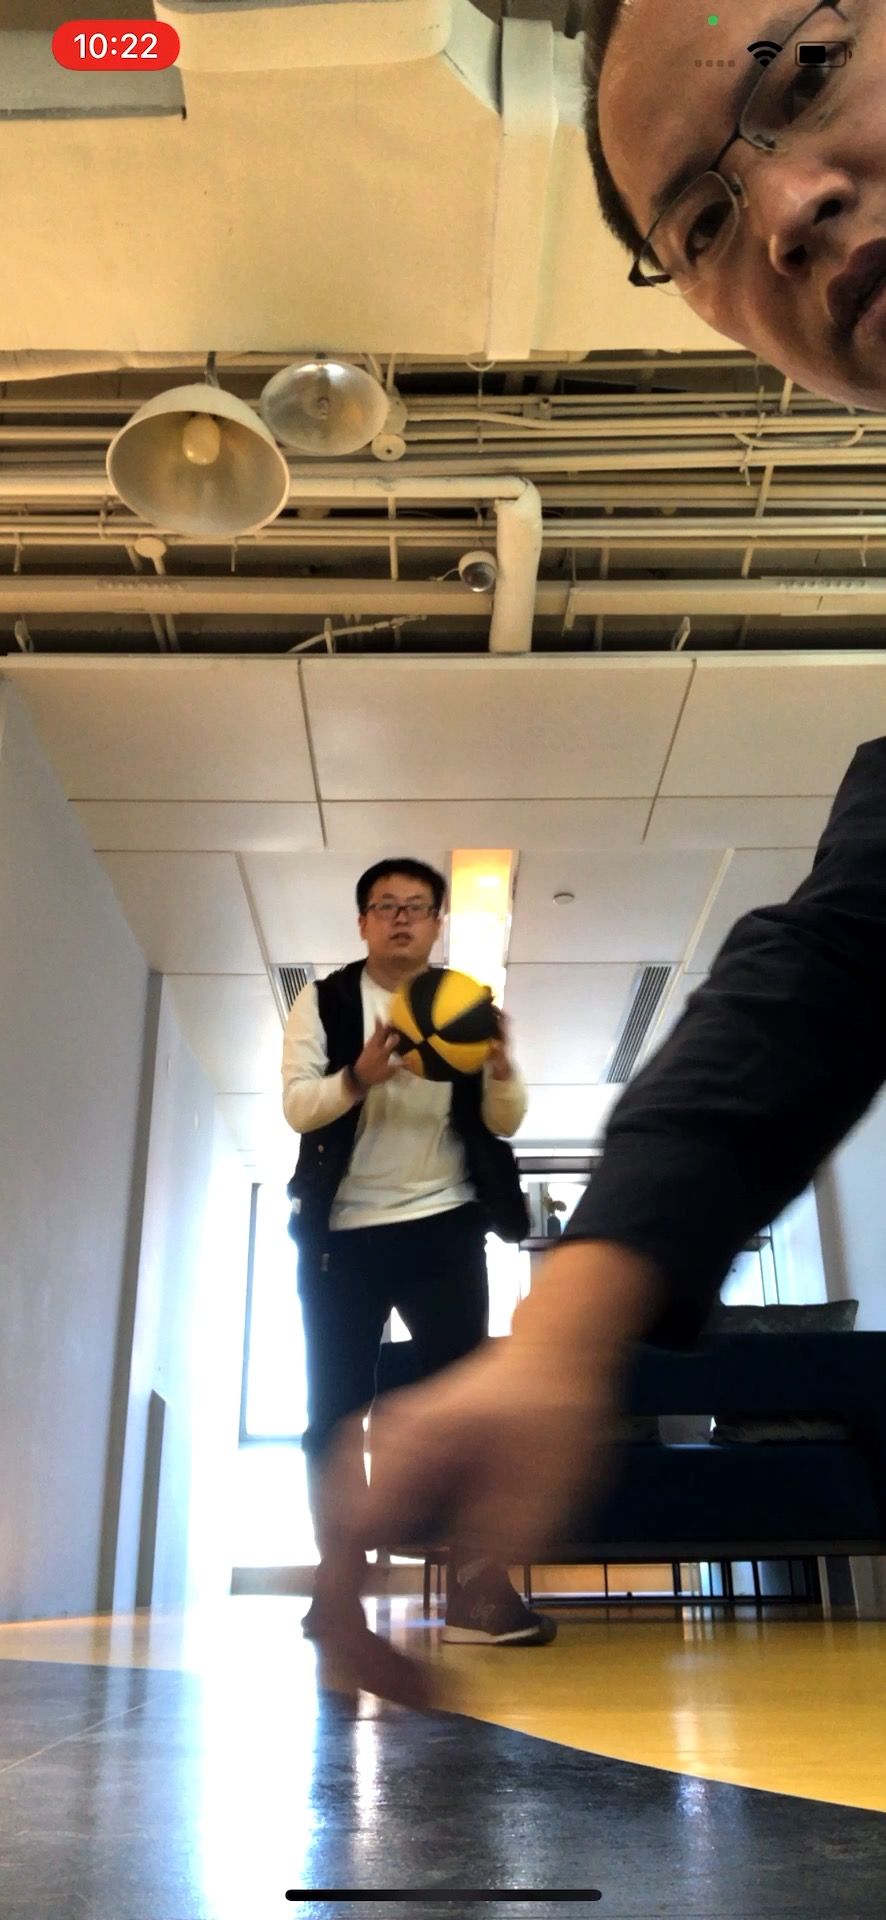ball: (388, 969, 501, 1084)
